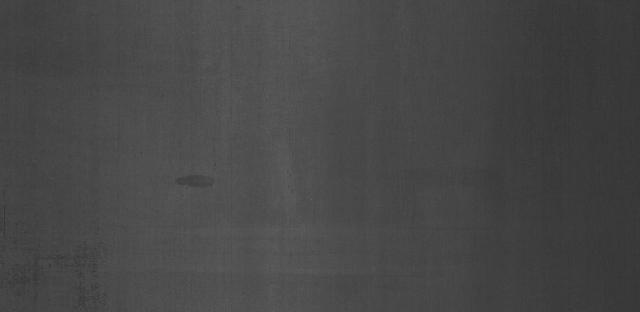oil_spot: (175, 168, 226, 192)
